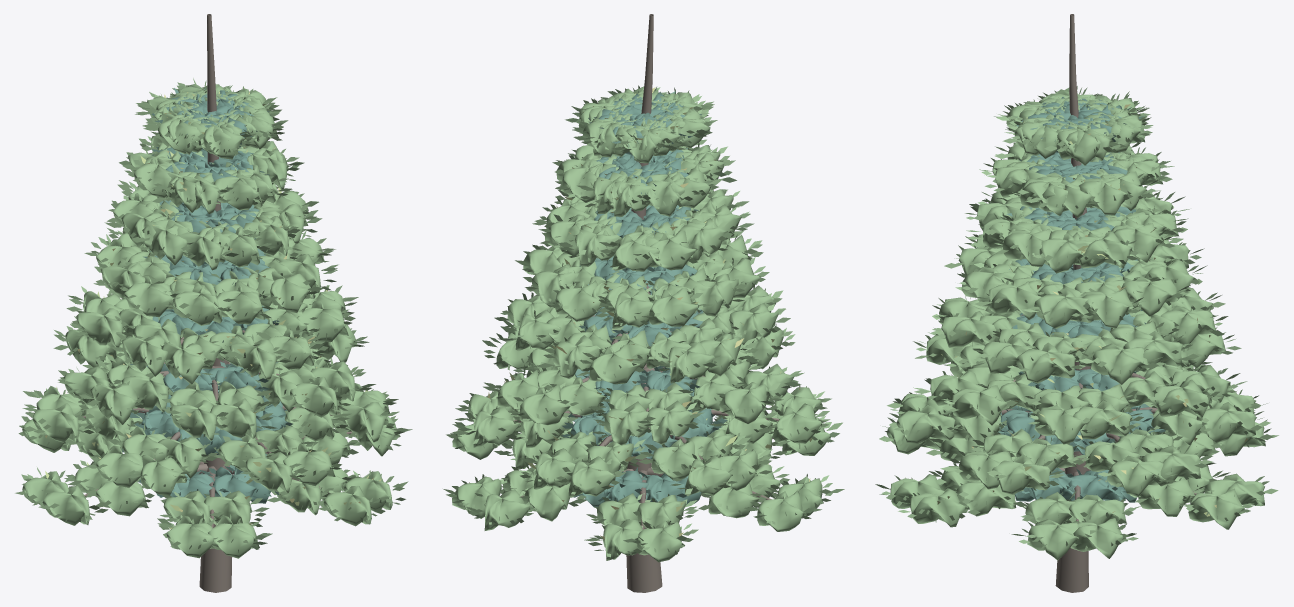
File: fir_sapling.glb
The picture shows the model from 3 angles, left to right: view 1: azimuth 30°, elevation 25°; view 2: azimuth 150°, elevation 25°; view 3: azimuth 270°, elevation 25°; orthographic projection.
Parts seen in each view (by area): view 1: fir_sapling; view 2: fir_sapling; view 3: fir_sapling.
Boxes of the visible parts, left/top/right/bottom form: fir_sapling: left=15, top=14, right=412, bottom=592; fir_sapling: left=443, top=14, right=844, bottom=592; fir_sapling: left=875, top=14, right=1278, bottom=592.
Size of the model in its own units: 5.45 by 8.17 by 5.28.
